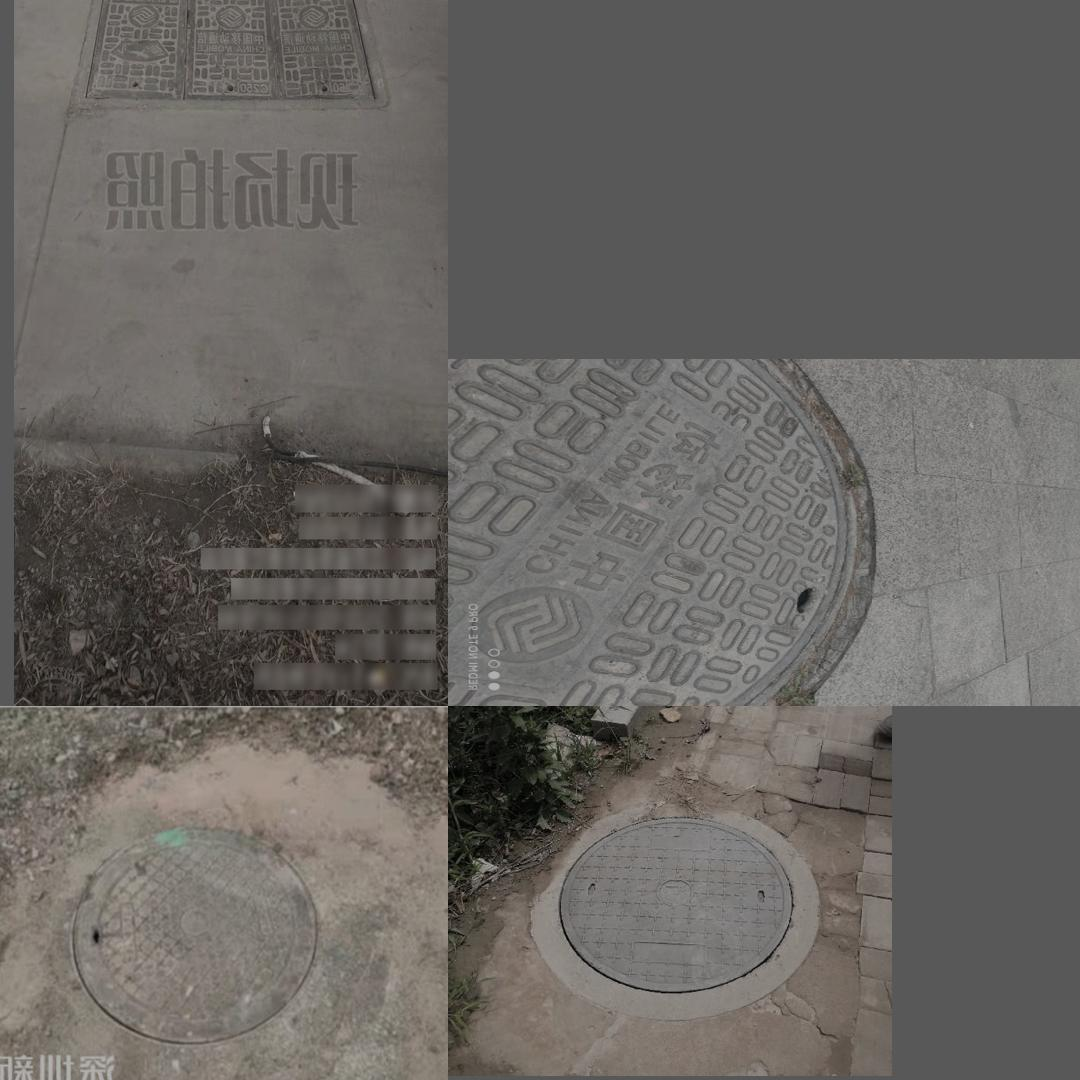good: (448, 359, 873, 706), (519, 804, 821, 1027), (60, 815, 327, 1052), (74, 0, 391, 110)
